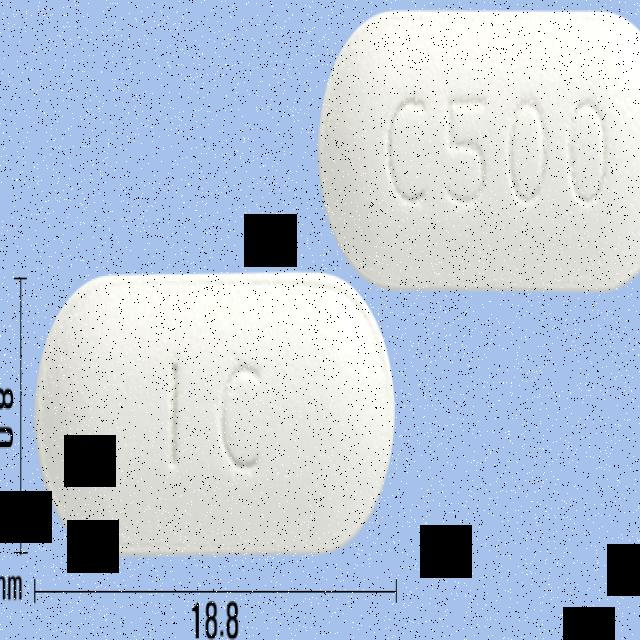Ciroctan: (29, 266, 401, 563), (311, 0, 640, 300)
